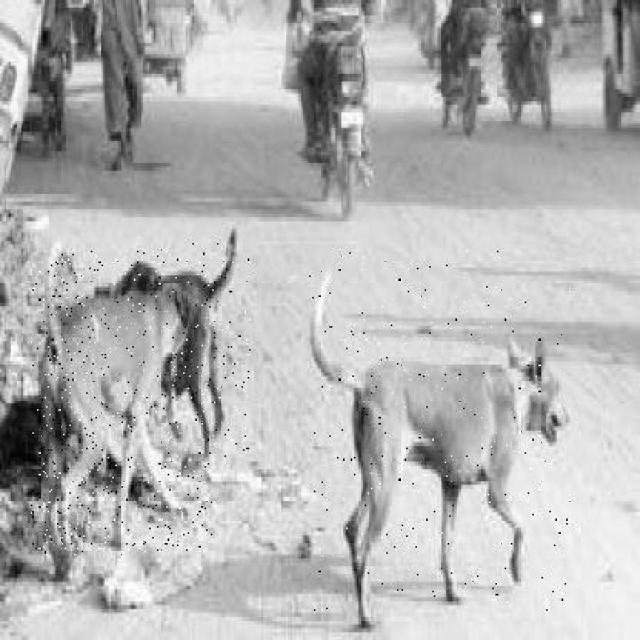Dog: (310, 249, 572, 614), (31, 251, 214, 557), (97, 243, 252, 465)
